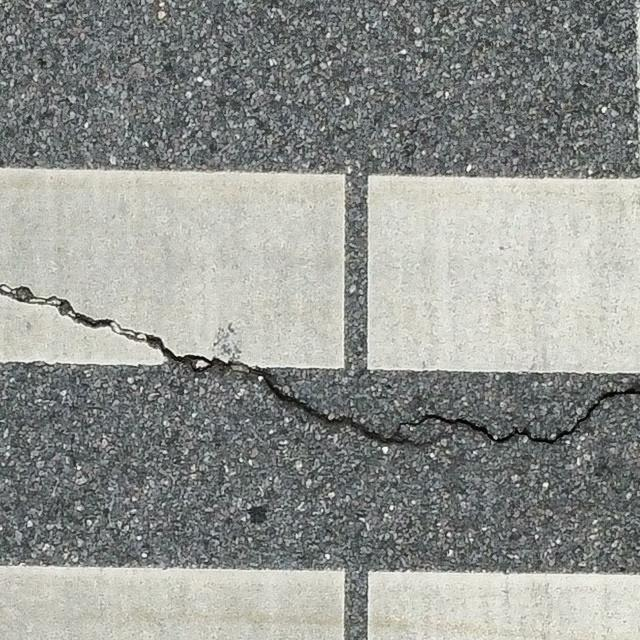TransverseCrack: (1, 281, 640, 452)
